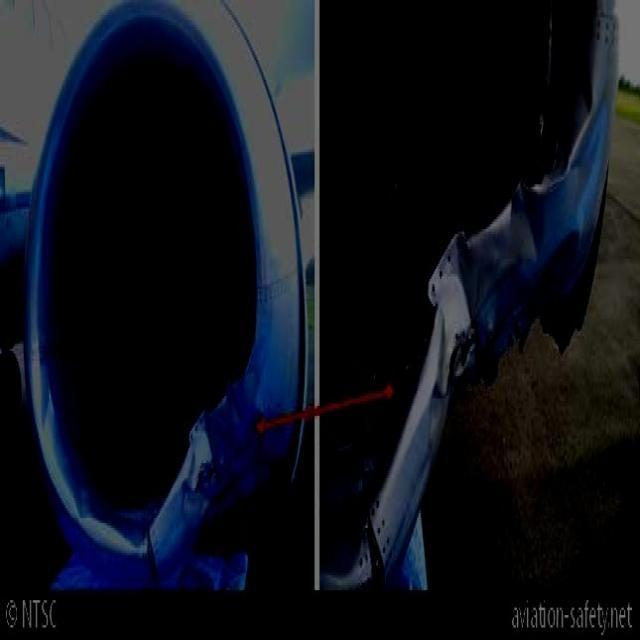dent: (560, 76, 613, 248), (510, 188, 547, 263)
